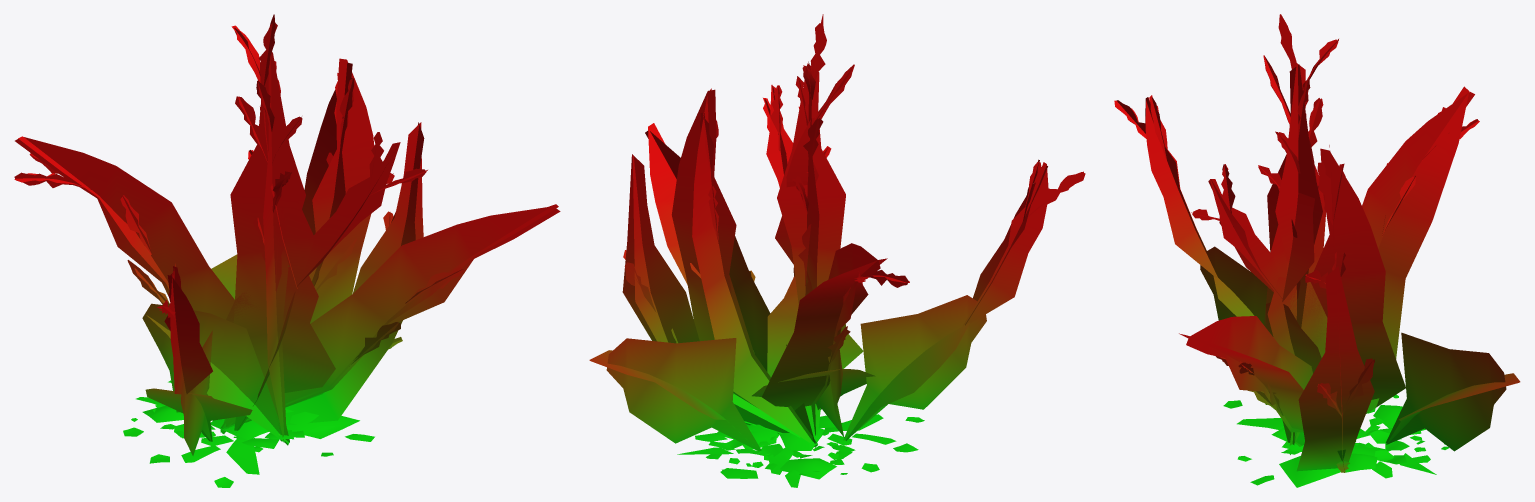
The model's file is River Saltbush_LOD0_Var10_vdfpcgbia.fbx.
3 renders of one model, left to right at view 1: azimuth 30°, elevation 25°; view 2: azimuth 150°, elevation 25°; view 3: azimuth 270°, elevation 25°, orthographic. The views are drawn at different scales.
Parts seen in each view (by area): view 1: _q89n_Var10_LOD0; view 2: _q89n_Var10_LOD0; view 3: _q89n_Var10_LOD0.
Part boxes in pixels (x1=…): _q89n_Var10_LOD0: x1=14, y1=14, x2=560, y2=487; _q89n_Var10_LOD0: x1=589, y1=14, x2=1085, y2=487; _q89n_Var10_LOD0: x1=1114, y1=14, x2=1520, y2=487.
Size of the model in its own units: 20.77 by 20.08 by 17.09.
